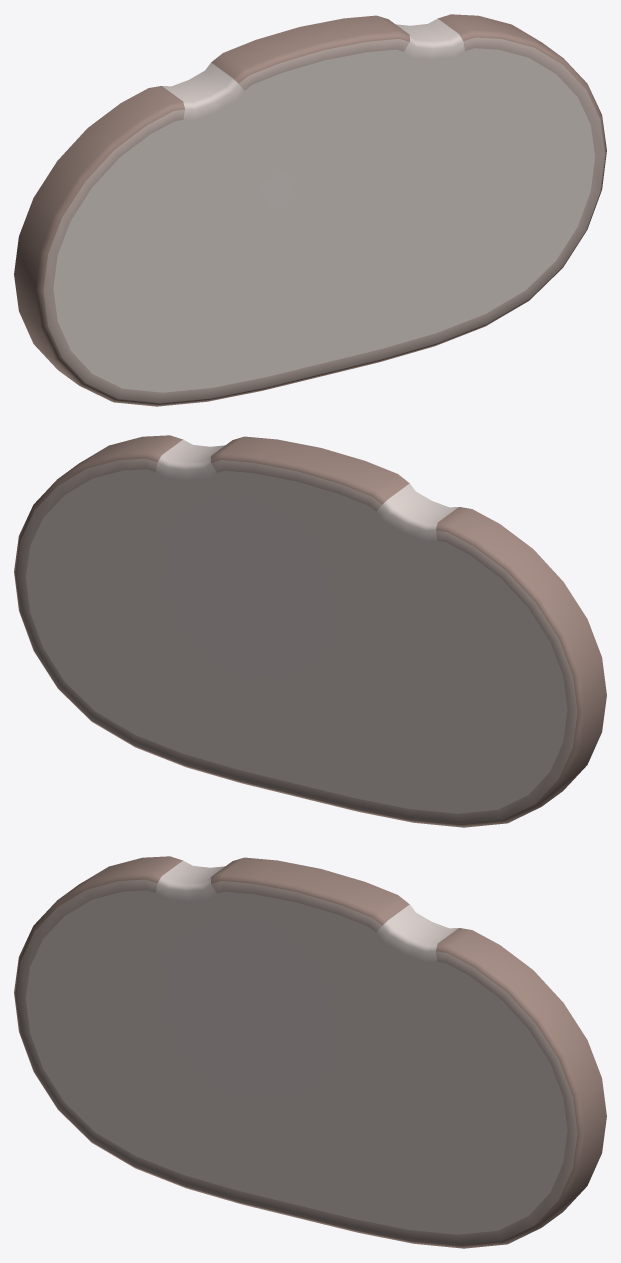
Rendered from Bread_3_Slice.fbx.
The picture shows the model from 3 angles, top to bottom: view 1: azimuth 30°, elevation 25°; view 2: azimuth 150°, elevation 25°; view 3: azimuth 330°, elevation 25°; orthographic projection.
Visible parts, largest first — view 1: Bread_3_Slice; view 2: Bread_3_Slice; view 3: Bread_3_Slice.
Boxes of the visible parts, left/top/right/bottom form: Bread_3_Slice: left=14, top=14, right=606, bottom=406; Bread_3_Slice: left=14, top=435, right=606, bottom=827; Bread_3_Slice: left=14, top=856, right=606, bottom=1248.
Size of the model in its own units: 26.49 by 14.78 by 2.21.
